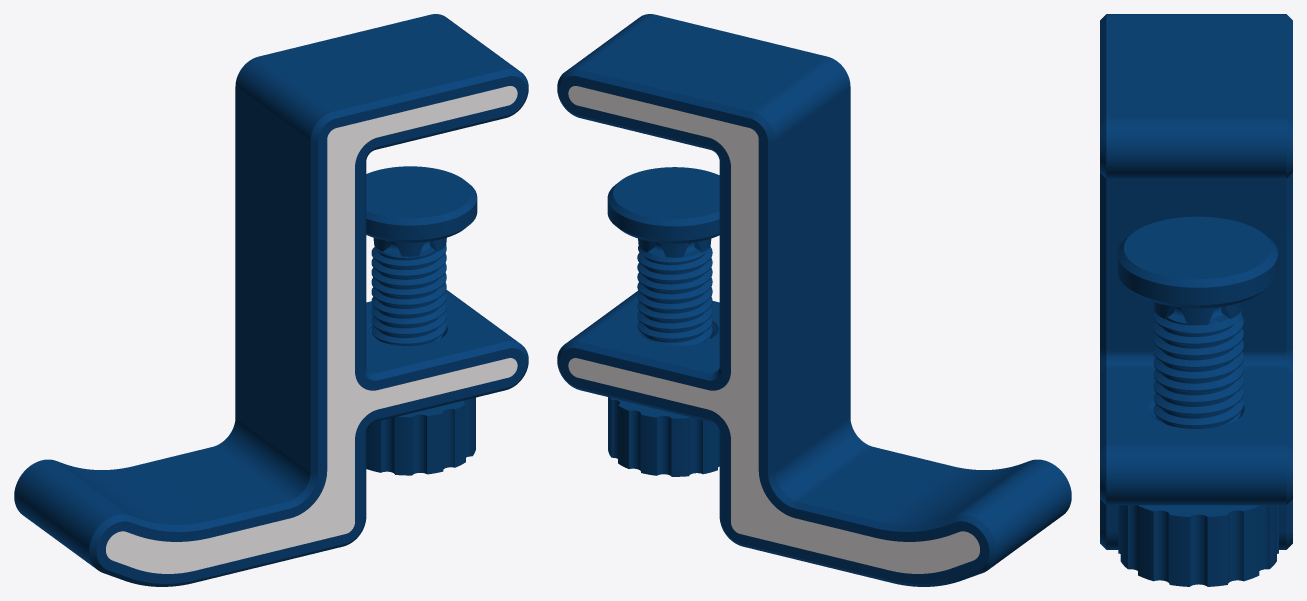
Rendered from HEDPHONE HOLDER .glb.
The picture shows the model from 3 angles, left to right: view 1: azimuth 30°, elevation 25°; view 2: azimuth 150°, elevation 25°; view 3: azimuth 270°, elevation 25°; orthographic projection. The views are drawn at different scales.
Visible parts, largest first — view 1: Headphone rest_dual colour.001, Headphone rest_dual colour, 3MF Object, 3MF Object.001; view 2: Headphone rest_dual colour.001, Headphone rest_dual colour, 3MF Object, 3MF Object.001; view 3: Headphone rest_dual colour.001, 3MF Object, 3MF Object.001.
Boxes of the visible parts, x1,y1,x2,y2 form: Headphone rest_dual colour.001: (14,14,528,586); Headphone rest_dual colour: (106,86,517,573); 3MF Object: (366,241,475,475); 3MF Object.001: (366,166,477,256); Headphone rest_dual colour.001: (557,14,1071,586); Headphone rest_dual colour: (568,86,979,573); 3MF Object: (608,242,719,476); 3MF Object.001: (607,167,719,257); Headphone rest_dual colour.001: (1100,14,1292,549); 3MF Object: (1118,307,1278,586); 3MF Object.001: (1117,216,1278,325).
Bounding box in the file's own units: 0.0947 × 0.09 × 0.03.
